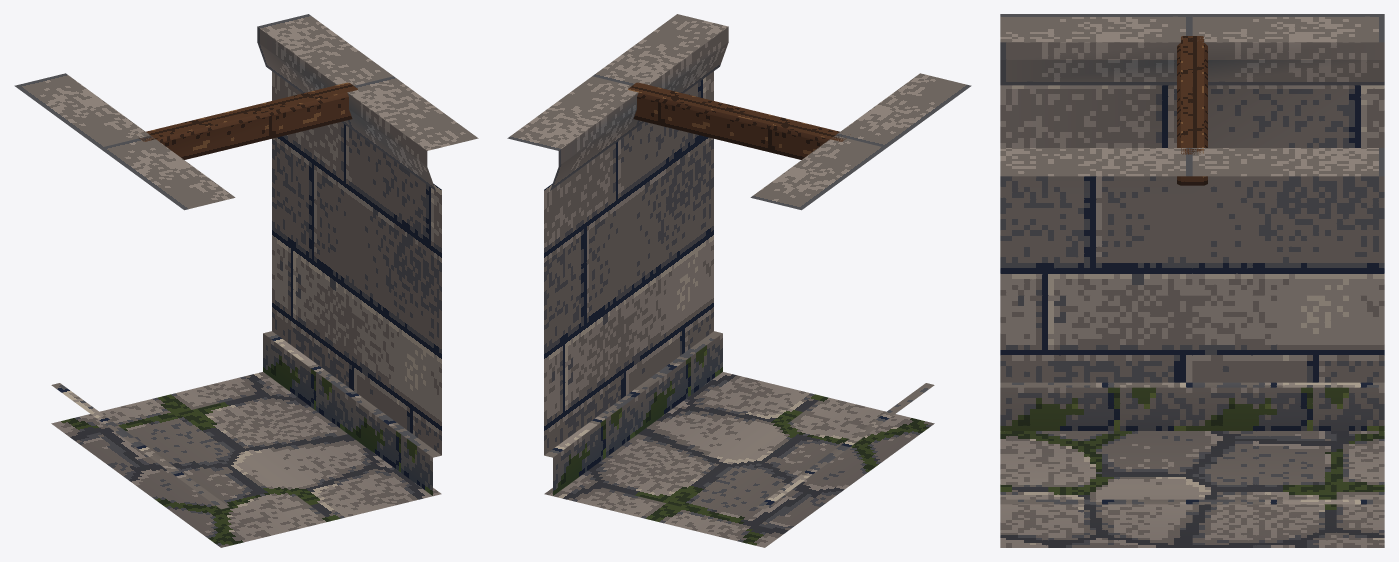
The model's file is dgn.corridor__straight_torch.glb.
The picture shows the model from 3 angles, left to right: view 1: azimuth 30°, elevation 25°; view 2: azimuth 150°, elevation 25°; view 3: azimuth 270°, elevation 25°; orthographic projection. The views are drawn at different scales.
Parts seen in each view (by area): view 1: kit_shell_walls, kit_shell_floor, kit_beams; view 2: kit_shell_walls, kit_shell_floor, kit_beams; view 3: kit_shell_walls, kit_shell_floor, kit_beams.
Part boxes in pixels (x1,y1,x2,y2): kit_shell_walls: [14, 14, 478, 509]; kit_shell_floor: [51, 372, 441, 547]; kit_beams: [139, 82, 357, 159]; kit_shell_walls: [507, 14, 971, 509]; kit_shell_floor: [544, 372, 934, 547]; kit_beams: [628, 82, 850, 159]; kit_shell_walls: [1000, 14, 1384, 504]; kit_shell_floor: [1000, 431, 1384, 547]; kit_beams: [1177, 36, 1207, 185].
Bounding box in the file's own units: 4 × 4.5 × 4.
Materials: 6 (6 with a texture image).
